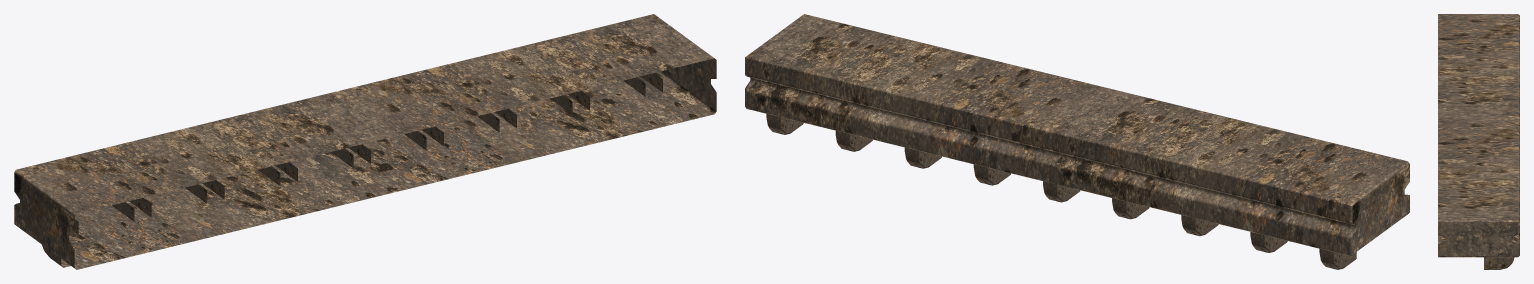
The model's file is Trim6.fbx.
3 views of the same model, side by side, from view 1: azimuth 30°, elevation 25°; view 2: azimuth 150°, elevation 25°; view 3: azimuth 270°, elevation 25° (orthographic). The views are drawn at different scales.
Visible parts, largest first — view 1: Trim6; view 2: Trim6; view 3: Trim6.
Part boxes in pixels (left/top/right/bottom): Trim6: left=14, top=14, right=716, bottom=269; Trim6: left=745, top=14, right=1409, bottom=269; Trim6: left=1438, top=14, right=1519, bottom=269.
Size of the model in its own units: 600 by 75.47 by 100.
